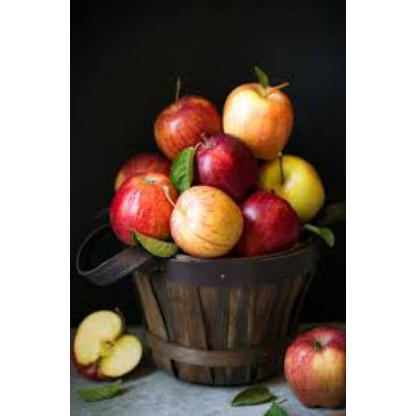apple: (115, 170, 184, 238), (219, 83, 291, 145), (280, 332, 344, 400), (260, 156, 324, 222), (188, 132, 256, 190), (175, 188, 235, 252), (238, 192, 298, 254), (154, 96, 218, 152)
damaged_apple: (70, 310, 140, 378)
